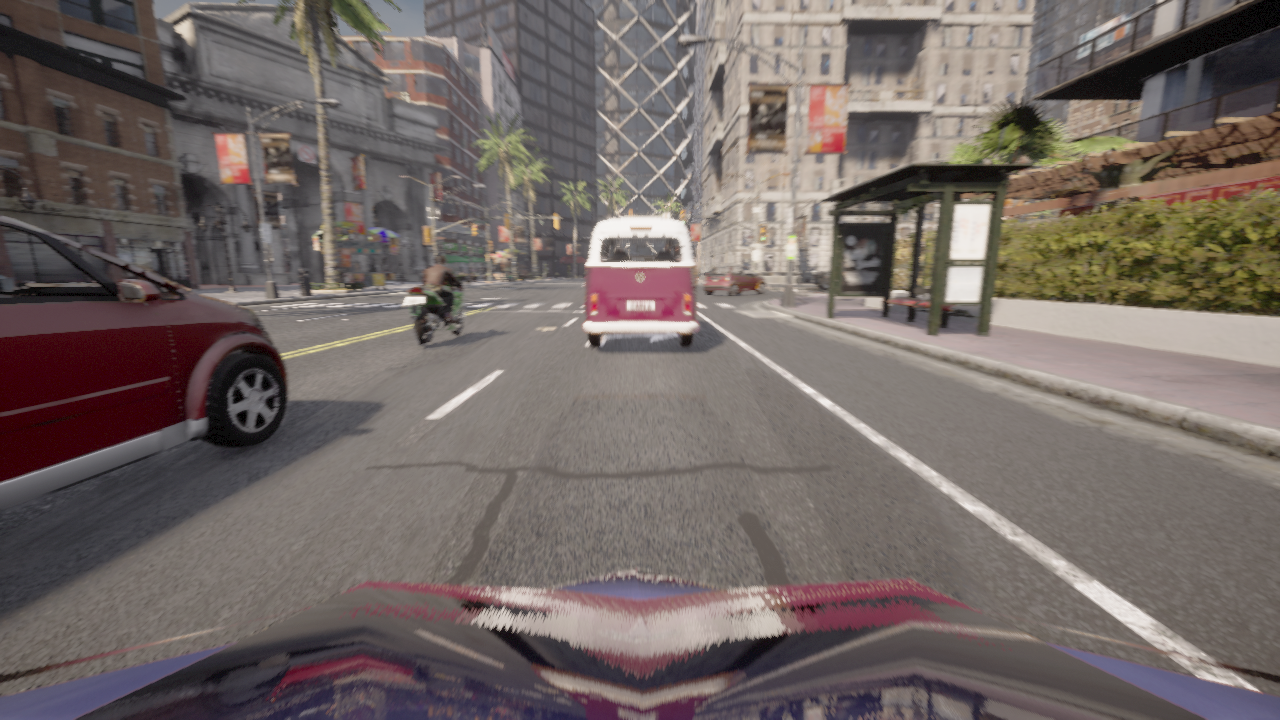cyclist: (0, 569, 1279, 719), (583, 218, 698, 347), (401, 277, 473, 345), (702, 266, 766, 296), (806, 272, 828, 290)
